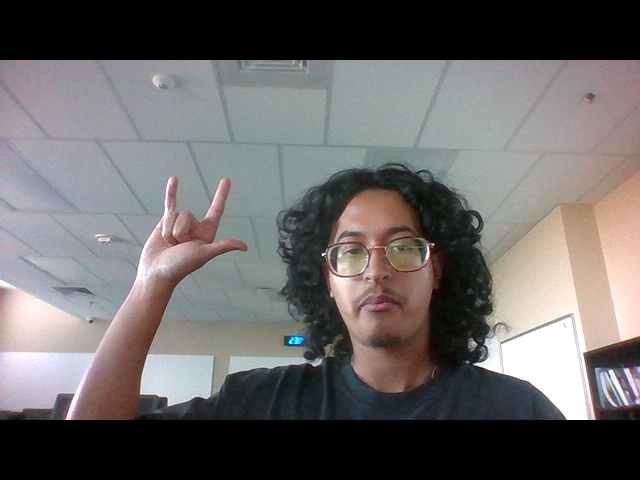iloveyou: (132, 165, 254, 291)
